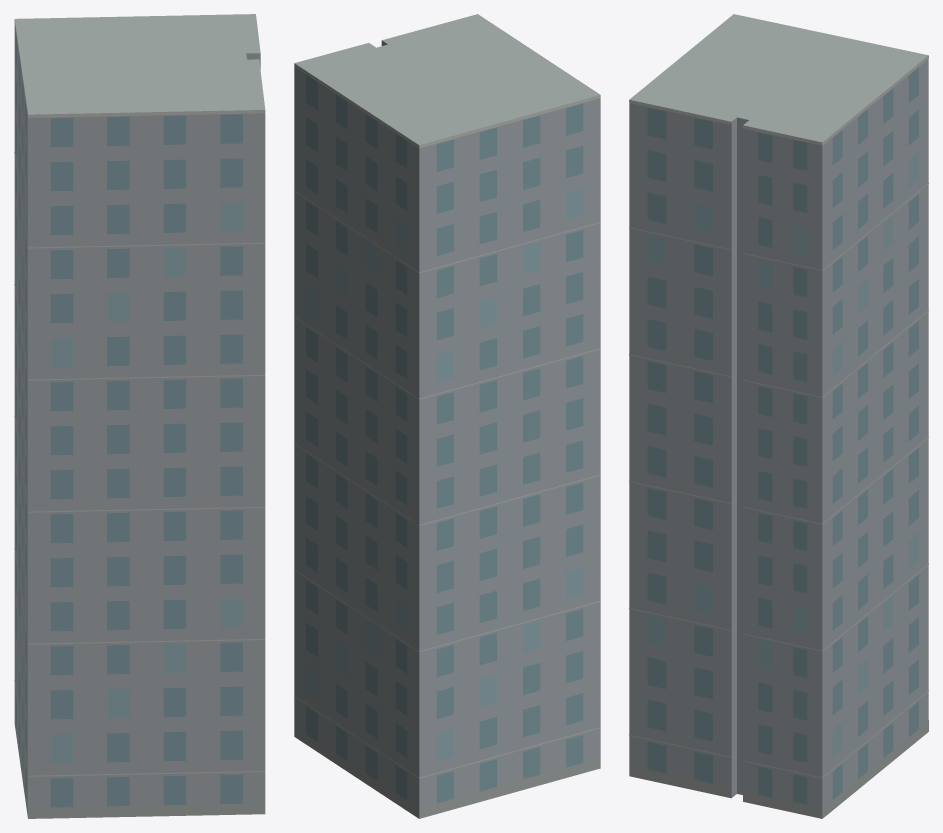
File: survey-upis-32886147.glb
3 views of the same model, side by side, from view 1: azimuth 30°, elevation 25°; view 2: azimuth 150°, elevation 25°; view 3: azimuth 270°, elevation 25° (orthographic). The views are drawn at different scales.
Parts seen in each view (by area): view 1: survey-upis-32886147.tmp; view 2: survey-upis-32886147.tmp; view 3: survey-upis-32886147.tmp.
Part boxes in pixels (x1,y1,x2,y2): survey-upis-32886147.tmp: [14, 14, 265, 818]; survey-upis-32886147.tmp: [294, 14, 600, 818]; survey-upis-32886147.tmp: [629, 14, 928, 818].
Size of the model in its own units: 20.28 by 49.75 by 19.99.
